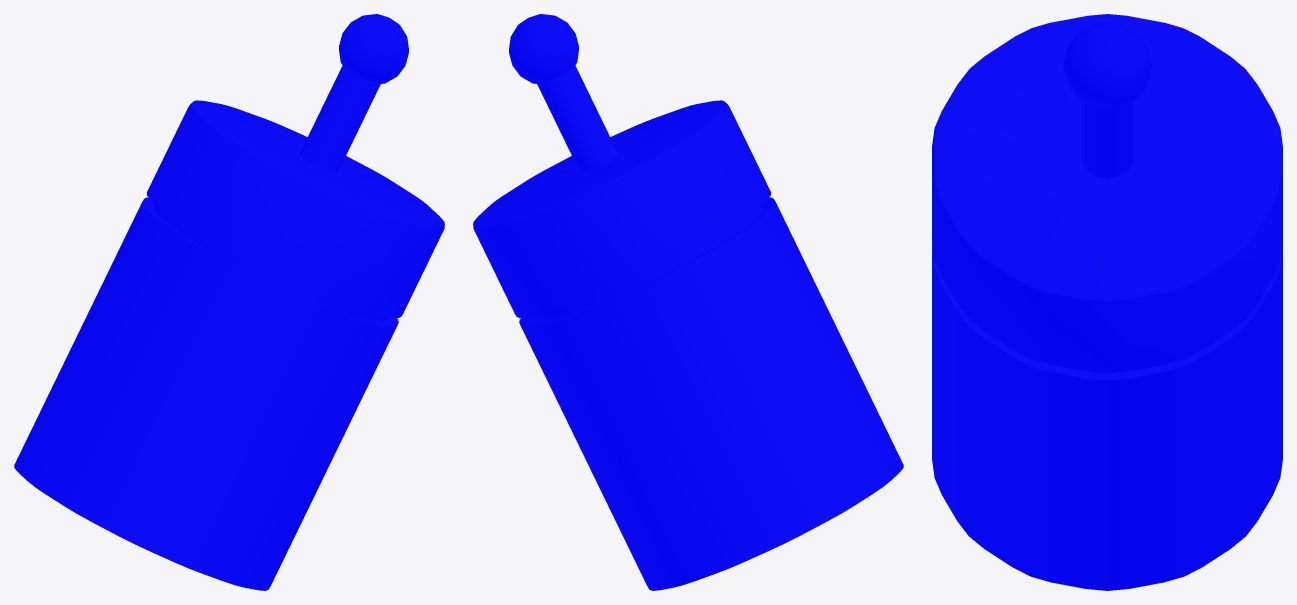
The model's file is B_Lampe_1.fbx.
3 renders of one model, left to right at view 1: azimuth 30°, elevation 25°; view 2: azimuth 150°, elevation 25°; view 3: azimuth 270°, elevation 25°, orthographic. The views are drawn at different scales.
Visible parts, largest first — view 1: Lampe1; view 2: Lampe1; view 3: Lampe1.
Part boxes in pixels (bbox=[...]): Lampe1: bbox=[14, 14, 444, 590]; Lampe1: bbox=[473, 14, 903, 590]; Lampe1: bbox=[932, 14, 1282, 590].
Size of the model in its own units: 20.74 by 26.31 by 13.07.
